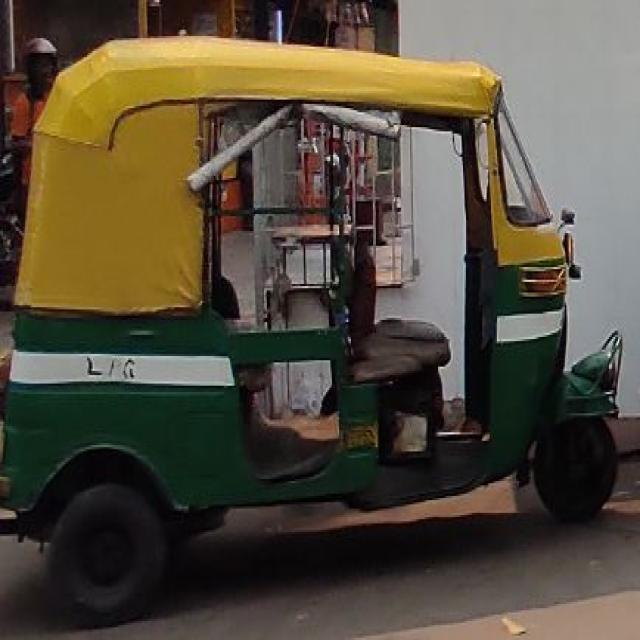autorickshaw: (4, 32, 630, 625)
